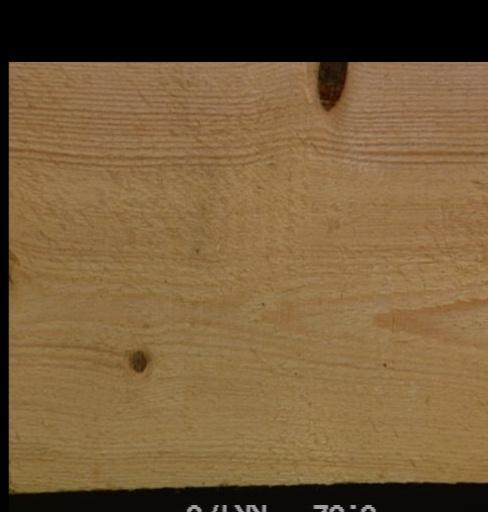sound_knot: (127, 349, 146, 374)
